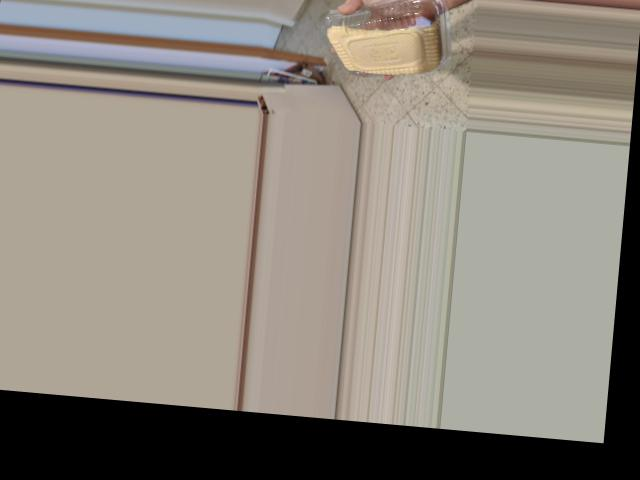cheese: (349, 8, 460, 70)
